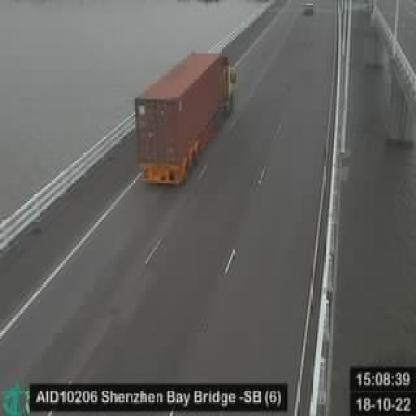Truck: (133, 53, 238, 186)
